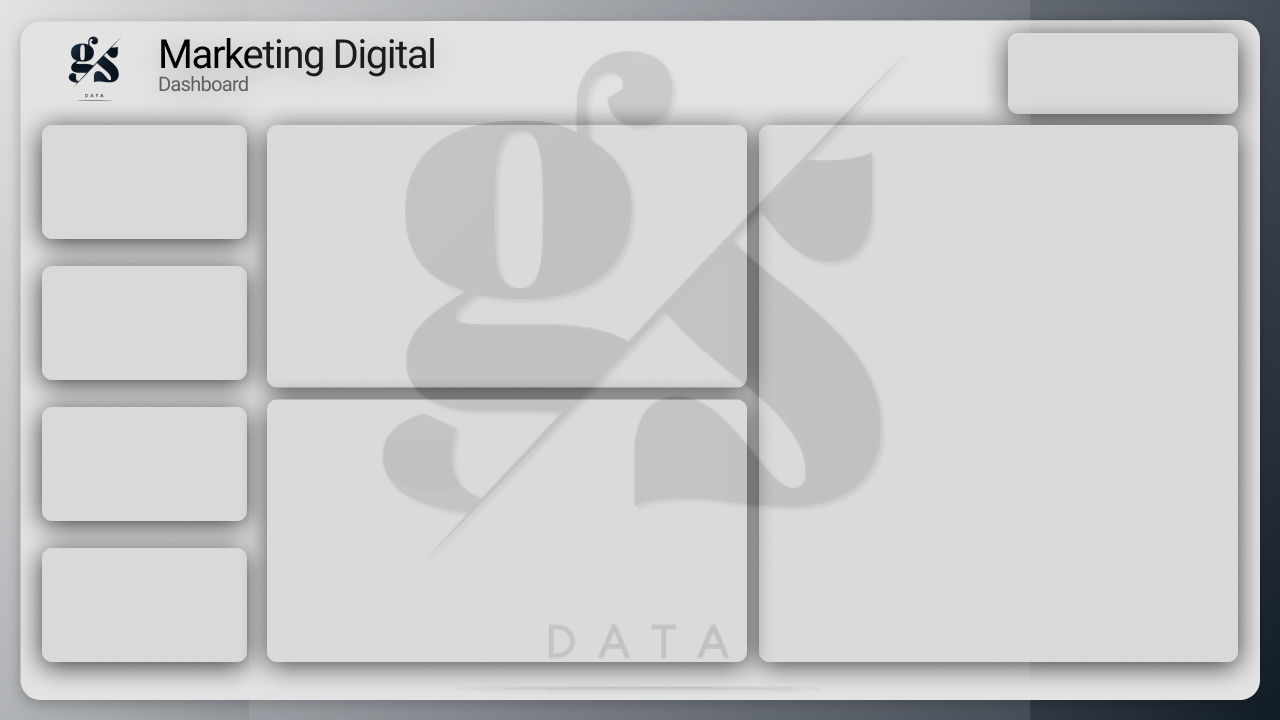

Layout of this report page (visuals, bound fields, positions):
{"tool":"powerbi","page":{"name":"Página 1","canvas":[1280,720],"ordinal":0},"visuals":[{"type":"slicer","fields":{"Values":["DimData.Data"]},"box":[1000,30,240,95],"z":0},{"type":"card","fields":{"Values":["Sum(FtMarketing.Receita Total)"]},"box":[26.2,115,236.2,130],"z":1000},{"type":"card","fields":{"Values":["Sum(FtMarketing.Receita Média por Compra)"]},"box":[26.2,257.5,236.2,130],"z":2000},{"type":"card","fields":{"Values":["Sum(FtMarketing.Número de Compradores)"]},"box":[26.2,397.5,236.2,130],"z":3000},{"type":"card","fields":{"Values":["Sum(FtMarketing.Visualizações na Página)"]},"box":[26.2,535,236.2,130],"z":4000},{"type":"pieChart","title":"Usuários Ativos por Gênero","fields":{"Category":["DimGenero.Gênero"],"Y":["Sum(FtMarketing.Usuários Ativos)"]},"box":[266.2,125,481.2,262.5],"z":5000},{"type":"pieChart","title":"Usuários Ativos por Plataforma","fields":{"Y":["Sum(FtMarketing.Usuários Ativos)"],"Category":["DimPlataforma.Plataforma Utilizada"]},"box":[266.2,402.5,481.2,262.5],"z":6000},{"type":"barChart","title":"Número de Usuários por Cidade","fields":{"Y":["Sum(FtMarketing.Usuários Total)"],"Category":["DimCidade.Cidade"]},"box":[760,125,477.5,540],"z":7000},{"type":"actionButton","box":[1213,659.8,45.7,40.6],"z":8000}]}

Visuals, with their boxes in screenshot pixels (x1, y1, x2, y2), scaled from the page's 1280x720 canvas onto the 1280x720 screenshot:
slicer - DimData.Data: box(1000, 30, 1240, 125)
card - Sum(FtMarketing.Receita Total): box(26, 115, 262, 245)
card - Sum(FtMarketing.Receita Média por Compra): box(26, 258, 262, 388)
card - Sum(FtMarketing.Número de Compradores): box(26, 398, 262, 528)
card - Sum(FtMarketing.Visualizações na Página): box(26, 535, 262, 665)
"Usuários Ativos por Gênero" pieChart: box(266, 125, 747, 388)
"Usuários Ativos por Plataforma" pieChart: box(266, 402, 747, 665)
"Número de Usuários por Cidade" barChart: box(760, 125, 1238, 665)
actionButton: box(1213, 660, 1259, 700)
